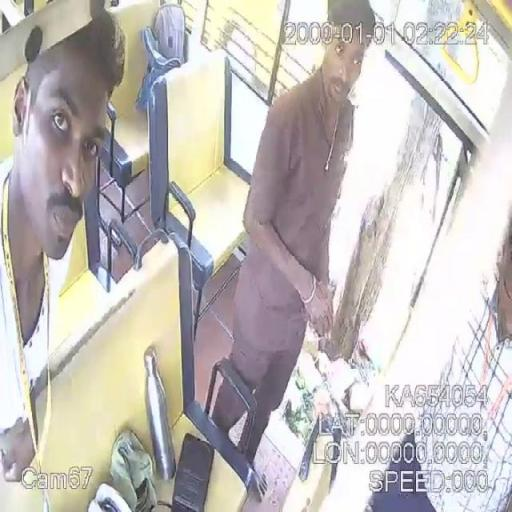persona: (202, 0, 378, 478), (1, 1, 127, 487), (373, 205, 512, 512)
